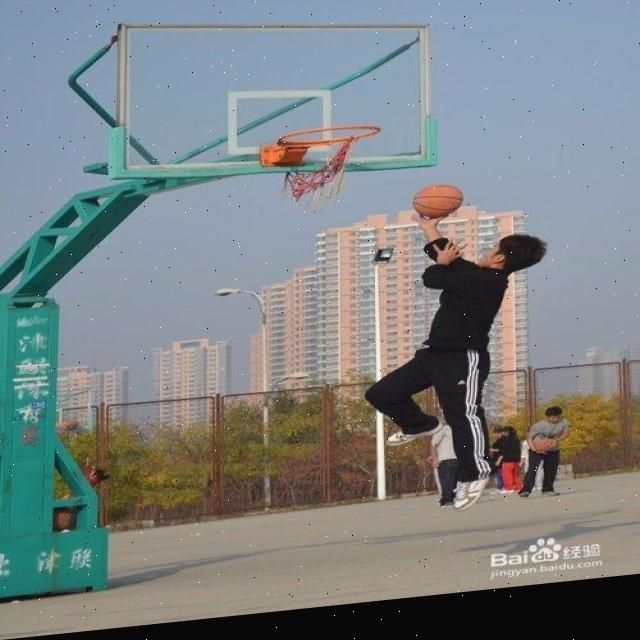basketball: (414, 182, 464, 220)
hoop: (278, 118, 382, 218)
